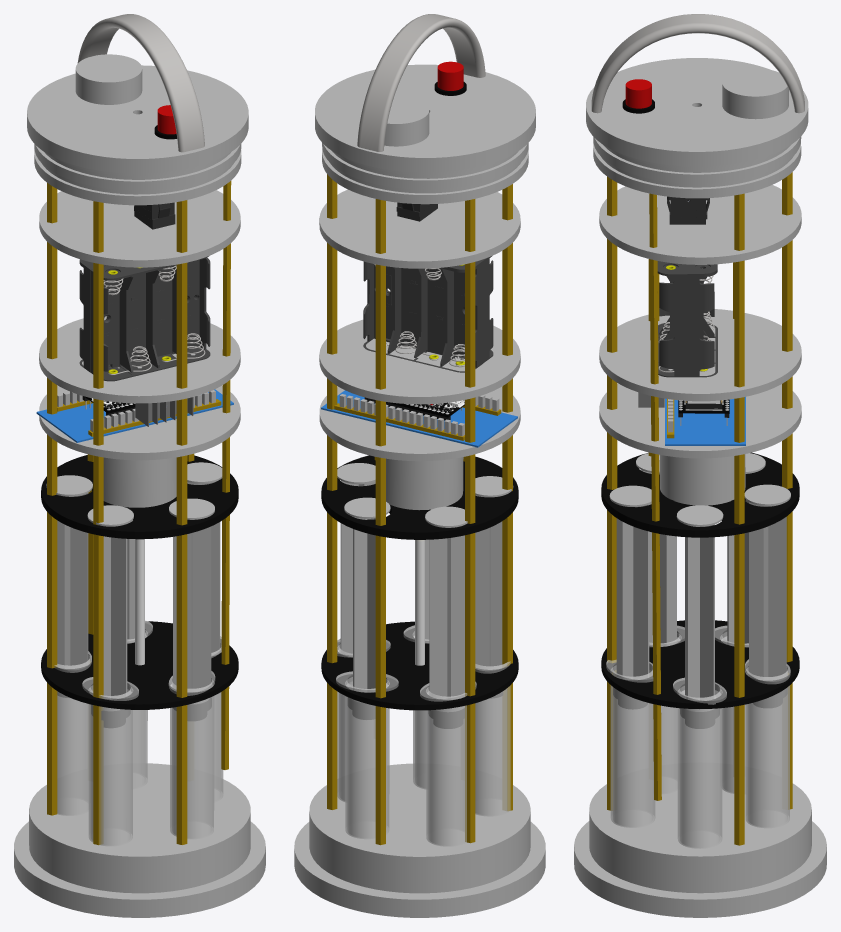
The picture shows the model from 3 angles, left to right: view 1: azimuth 30°, elevation 25°; view 2: azimuth 150°, elevation 25°; view 3: azimuth 270°, elevation 25°; orthographic projection.
Parts seen in each view (by area): view 1: 實體2 (×29), 實體1 (×2), 實體4; view 2: 實體2 (×28), 實體1 (×2); view 3: 實體2 (×27), 實體1 (×2).
Boxes of the visible parts, bbox=[...] form: 實體2 (×29): bbox=[14, 14, 265, 917]; 實體1 (×2): bbox=[27, 65, 248, 442]; 實體4: bbox=[135, 397, 193, 426]; 實體2 (×28): bbox=[294, 14, 545, 917]; 實體1 (×2): bbox=[315, 64, 535, 447]; 實體2 (×27): bbox=[574, 14, 826, 917]; 實體1 (×2): bbox=[586, 58, 808, 445].
Bounding box in the file's own units: 0.1249 × 0.4609 × 0.125.
